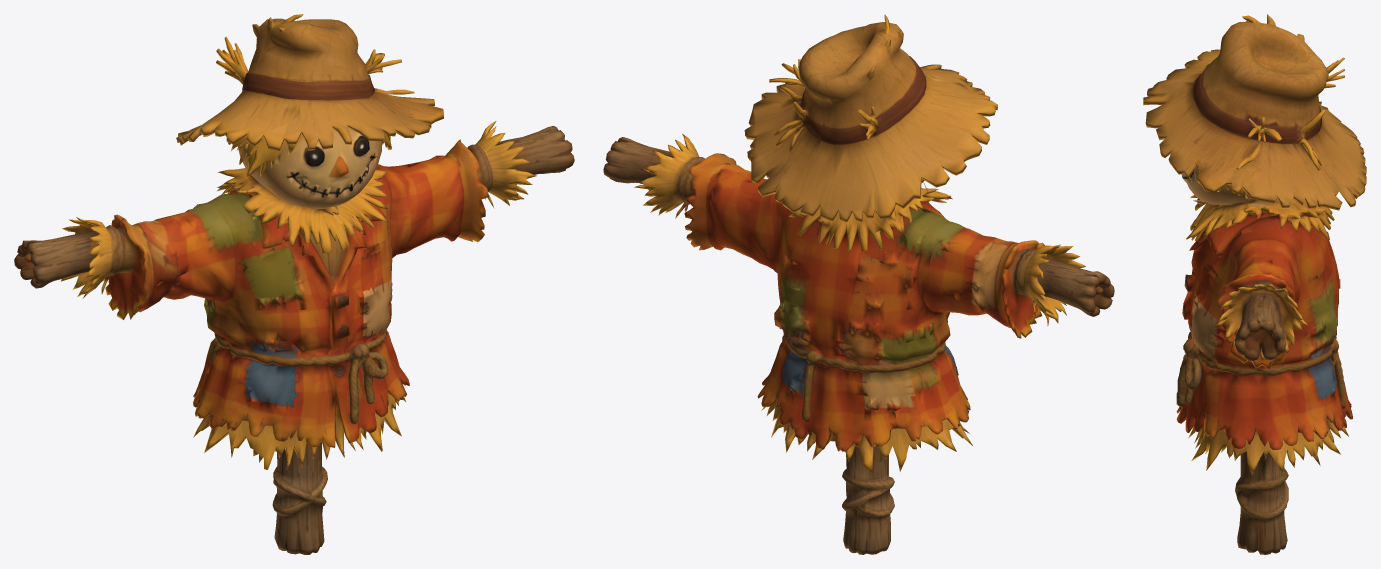
The model's file is scarecrow.glb.
The picture shows the model from 3 angles, left to right: view 1: azimuth 30°, elevation 25°; view 2: azimuth 150°, elevation 25°; view 3: azimuth 270°, elevation 25°; orthographic projection. The views are drawn at different scales.
Parts seen in each view (by area): view 1: tripo_node_131e78d9-4f42-4ce1-a19a-b04a696d8dd6; view 2: tripo_node_131e78d9-4f42-4ce1-a19a-b04a696d8dd6; view 3: tripo_node_131e78d9-4f42-4ce1-a19a-b04a696d8dd6.
Part boxes in pixels (box(x1,y1,x2,y2)): tripo_node_131e78d9-4f42-4ce1-a19a-b04a696d8dd6: box(14, 14, 574, 554); tripo_node_131e78d9-4f42-4ce1-a19a-b04a696d8dd6: box(603, 14, 1114, 554); tripo_node_131e78d9-4f42-4ce1-a19a-b04a696d8dd6: box(1143, 14, 1366, 554).
Size of the model in its own units: 0.9783 by 0.9706 by 0.3733.
Materials: 1 (1 with a texture image).
